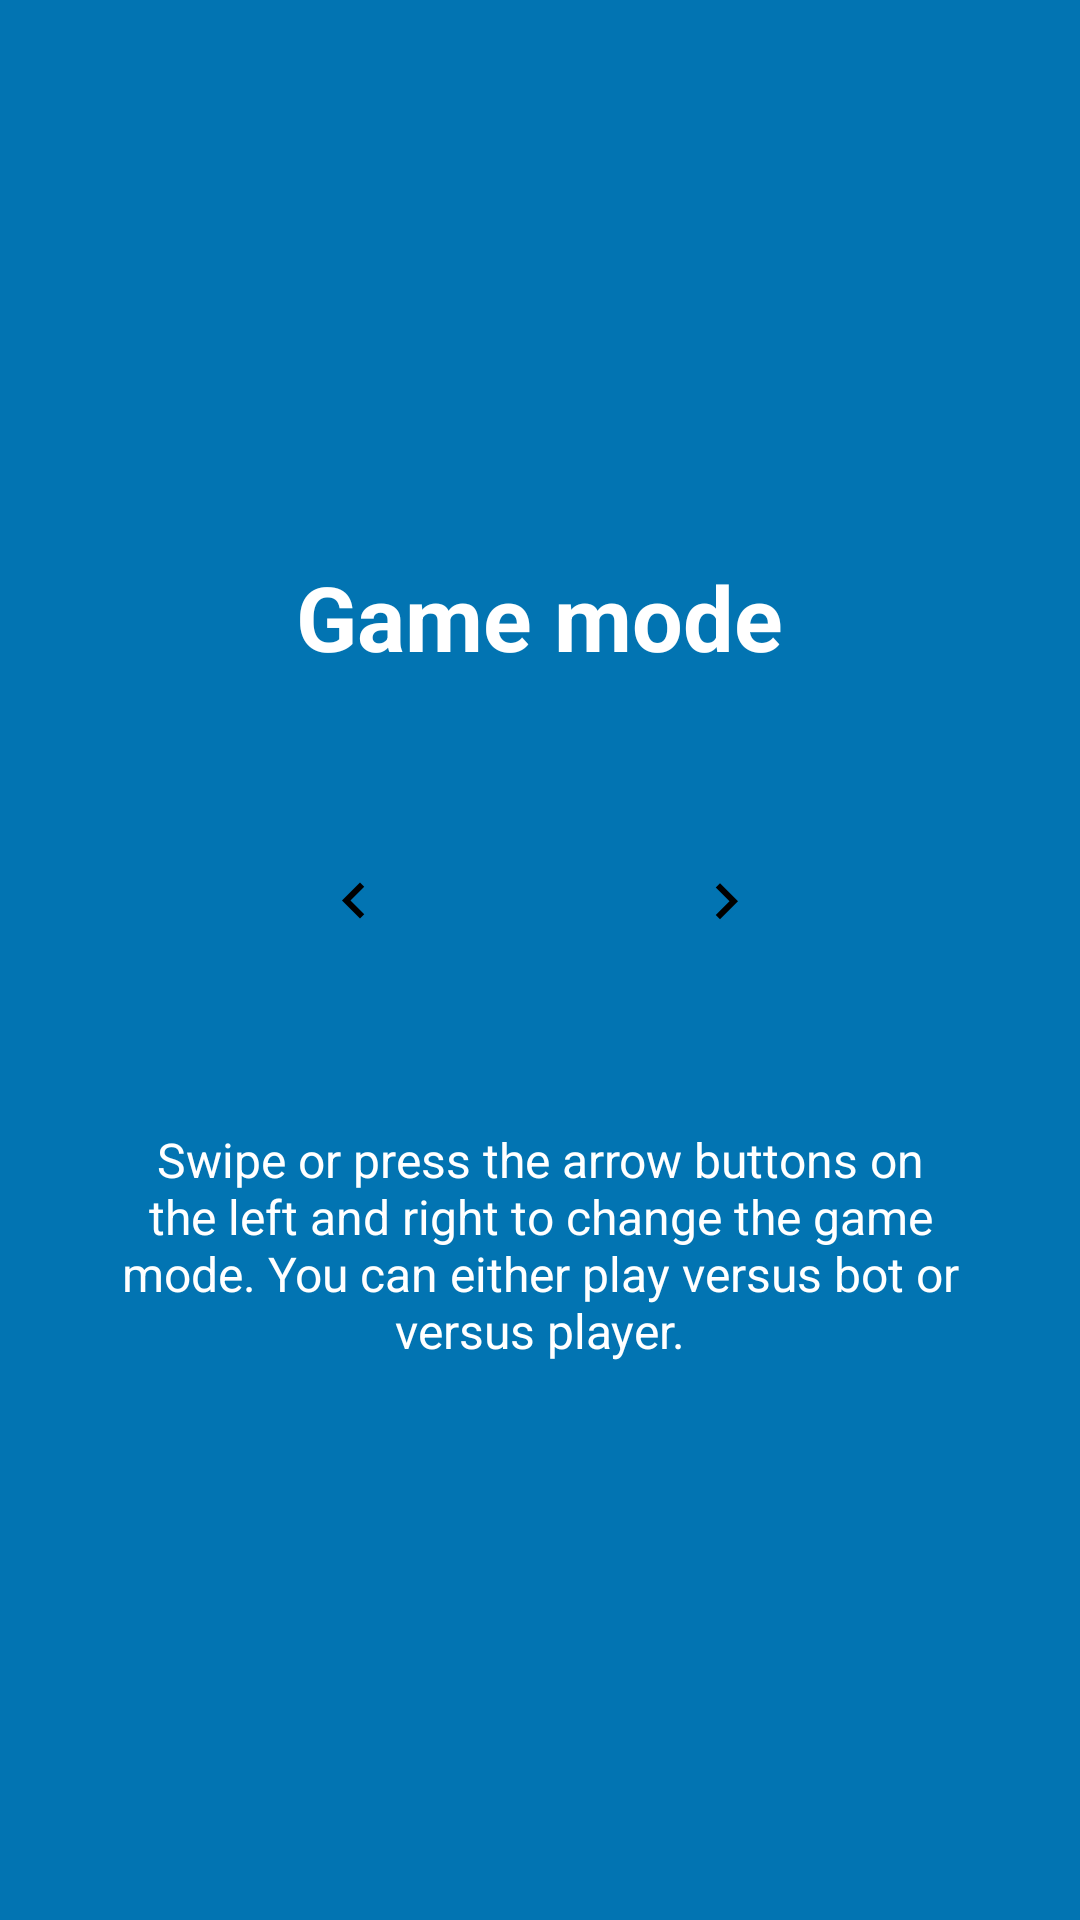

Screen size 1080*1920. Icon name, then its center in pixels as (x,y):
keyboard arrow left: (353,900)
keyboard arrow right: (727,901)
